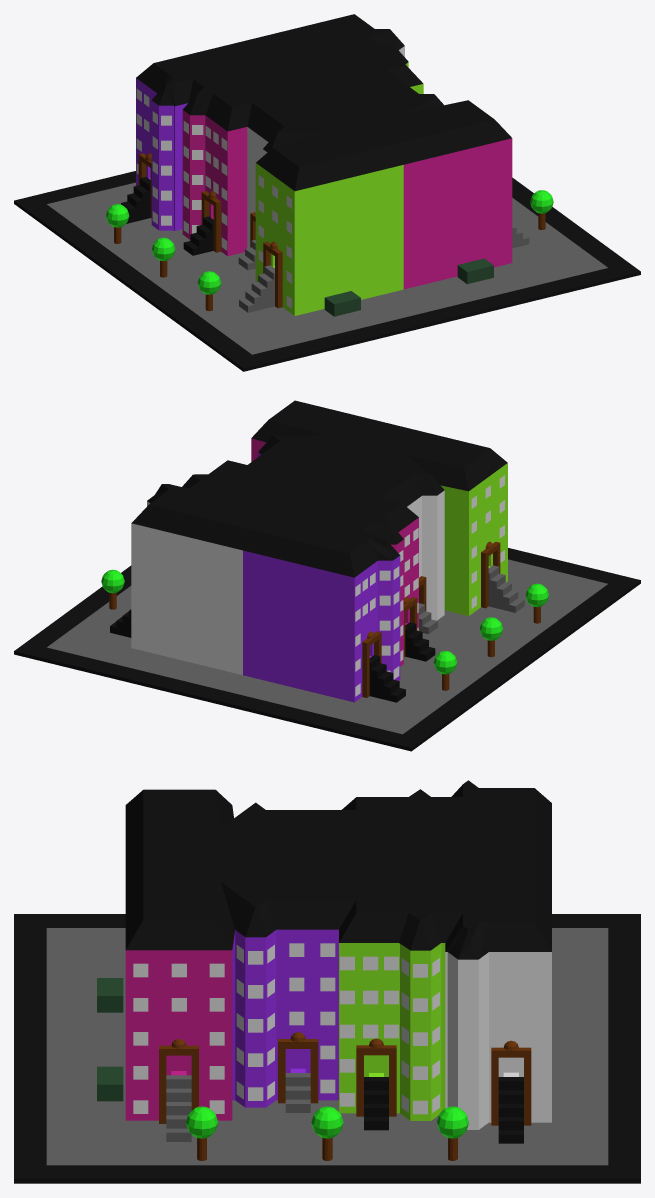
The model's file is rowhouses.FBX.
3 renders of one model, top to bottom at view 1: azimuth 30°, elevation 25°; view 2: azimuth 150°, elevation 25°; view 3: azimuth 270°, elevation 25°, orthographic. The views are drawn at different scales.
Visible parts, largest first — view 1: Layer:0, Layer:bldgconcrete, Layer:rowhouse1, Layer:rowhouse3, Layer:street, Layer:rowhouse2, Layer:windows, Layer:wood, Layer:greenery, Layer:dumpster, Layer:rowhouse4; view 2: Layer:0, Layer:bldgconcrete, Layer:rowhouse2, Layer:rowhouse4, Layer:street, Layer:rowhouse3, Layer:windows, Layer:wood, Layer:greenery, Layer:rowhouse1; view 3: Layer:0, Layer:bldgconcrete, Layer:street, Layer:windows, Layer:rowhouse1, Layer:rowhouse2, Layer:rowhouse4, Layer:rowhouse3, Layer:wood, Layer:greenery, Layer:dumpster.
Boxes of the visible parts, x1,y1,x2,y2 form: Layer:0: [121, 14, 511, 255]; Layer:bldgconcrete: [47, 182, 607, 354]; Layer:rowhouse1: [182, 110, 512, 289]; Layer:rowhouse3: [255, 62, 423, 315]; Layer:street: [14, 171, 640, 371]; Layer:rowhouse2: [136, 78, 187, 230]; Layer:windows: [136, 88, 291, 308]; Layer:wood: [114, 153, 545, 311]; Layer:greenery: [106, 190, 553, 294]; Layer:dumpster: [324, 258, 493, 316]; Layer:rowhouse4: [247, 46, 404, 248]; Layer:0: [110, 400, 507, 702]; Layer:bldgconcrete: [47, 559, 607, 734]; Layer:rowhouse2: [243, 452, 400, 702]; Layer:rowhouse4: [131, 490, 444, 675]; Layer:street: [14, 548, 640, 751]; Layer:rowhouse3: [441, 463, 507, 615]; Layer:windows: [355, 475, 504, 696]; Layer:wood: [109, 541, 540, 697]; Layer:greenery: [101, 569, 548, 674]; Layer:rowhouse1: [251, 438, 418, 666]; Layer:0: [125, 780, 551, 1143]; Layer:bldgconcrete: [46, 928, 608, 1165]; Layer:street: [14, 914, 640, 1183]; Layer:windows: [133, 943, 550, 1123]; Layer:rowhouse1: [125, 950, 232, 1120]; Layer:rowhouse2: [232, 929, 338, 1107]; Layer:rowhouse4: [445, 952, 551, 1129]; Layer:rowhouse3: [339, 943, 445, 1120]; Layer:wood: [159, 1032, 531, 1160]; Layer:greenery: [186, 1106, 468, 1138]; Layer:dumpster: [97, 978, 123, 1101].
Size of the model in its own units: 4000 by 1392 by 4000.
